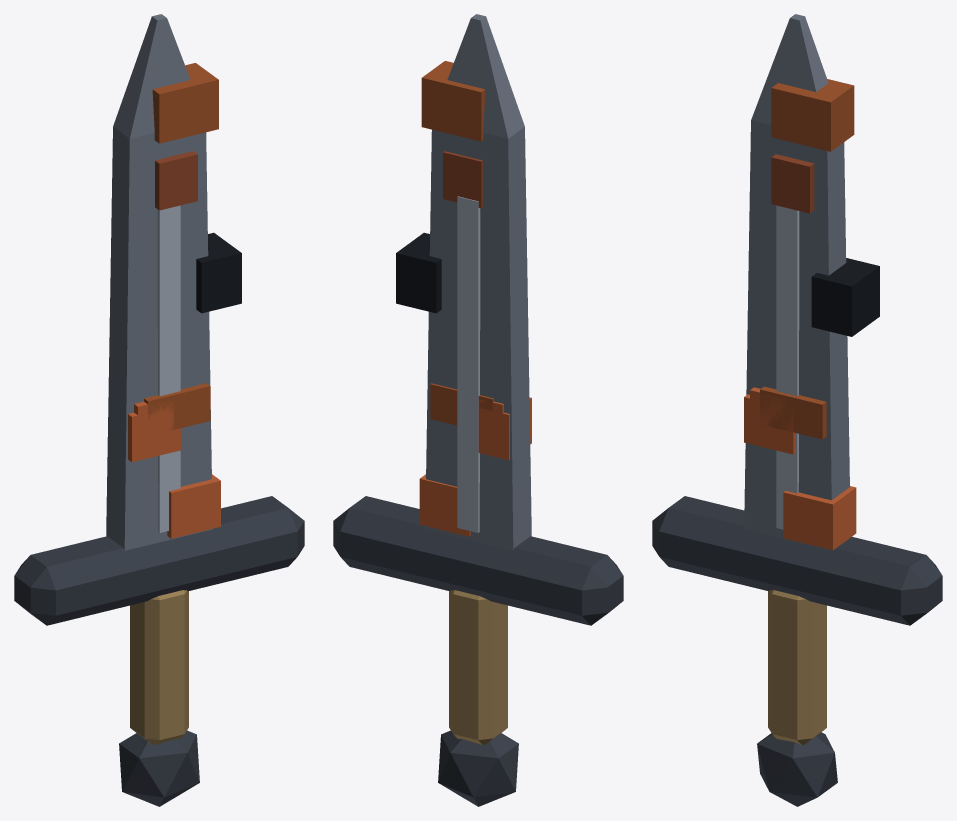
File: Res_Sword_Rusty.fbx
3 views of the same model, side by side, from view 1: azimuth 30°, elevation 25°; view 2: azimuth 150°, elevation 25°; view 3: azimuth 330°, elevation 25° (orthographic).
Visible parts, largest first — view 1: Res_Sword_Rusty; view 2: Res_Sword_Rusty; view 3: Res_Sword_Rusty.
Boxes of the visible parts, x1=… form: Res_Sword_Rusty: x1=14, y1=14, x2=304, y2=806; Res_Sword_Rusty: x1=333, y1=14, x2=623, y2=806; Res_Sword_Rusty: x1=652, y1=14, x2=942, y2=806.
Bounding box in the file's own units: 0.34 × 0.937 × 0.075.
